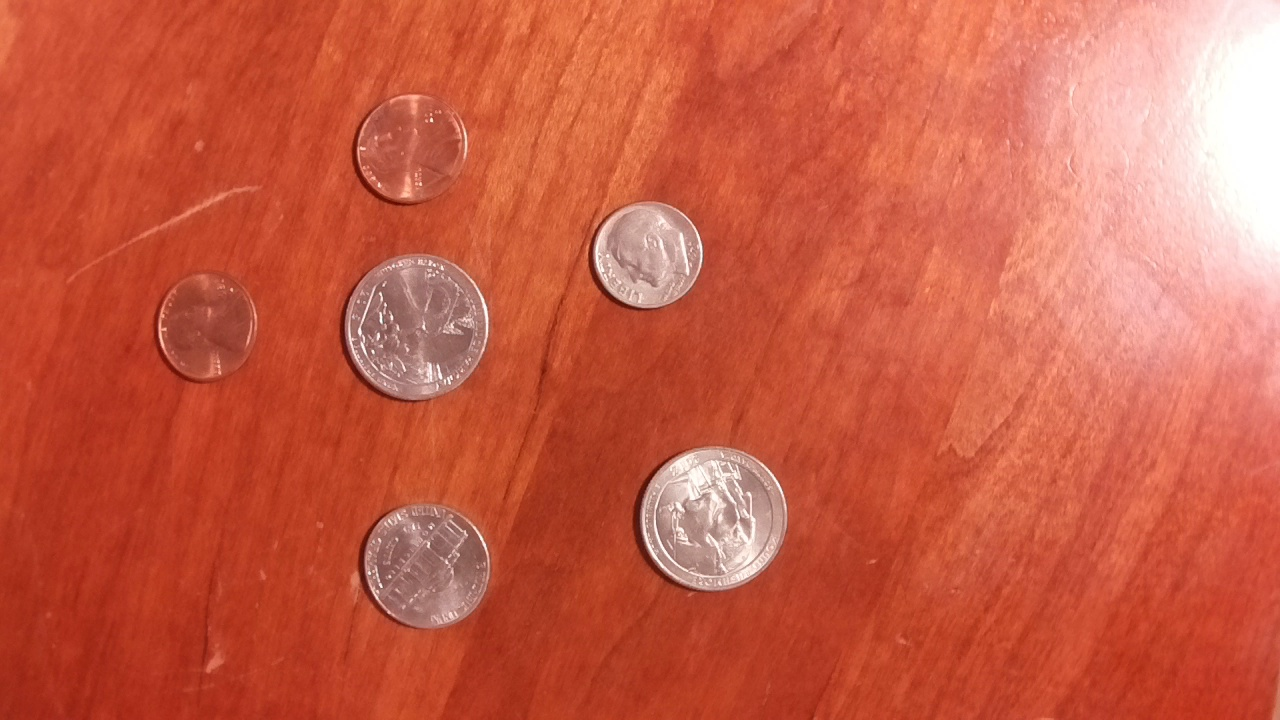dime: (585, 198, 707, 314)
nickel: (351, 500, 497, 630)
penny: (350, 90, 472, 206), (154, 270, 258, 384)
quarter: (631, 440, 793, 596), (338, 248, 494, 406)
